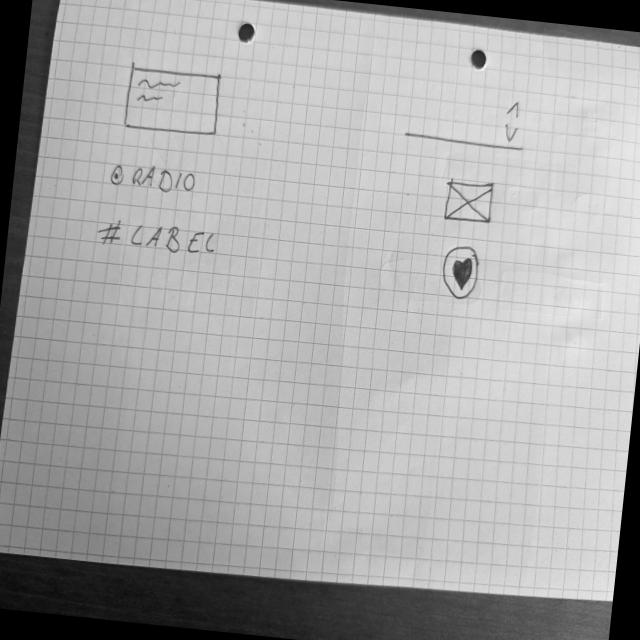icon-button: (436, 242, 484, 308)
image: (442, 175, 500, 228)
label: (95, 218, 220, 261)
number-input: (403, 86, 532, 155)
radio: (108, 159, 200, 200)
textarea: (123, 61, 225, 142)
